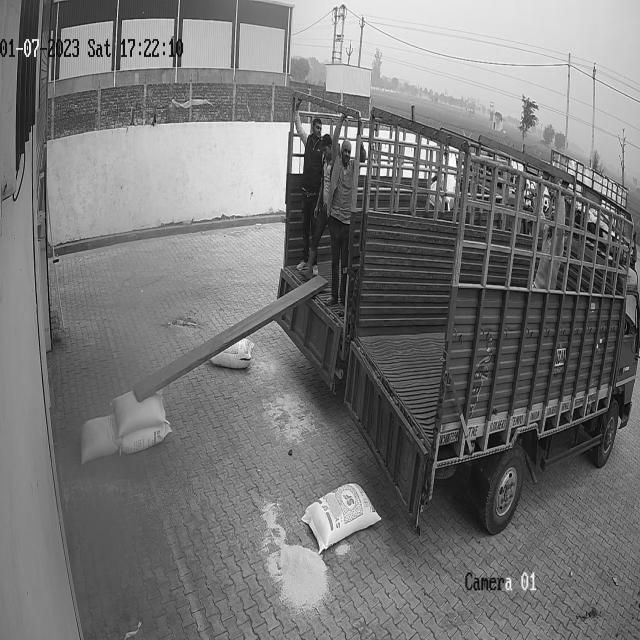sack: (302, 483, 381, 551), (110, 391, 165, 436), (78, 414, 119, 462), (120, 422, 171, 454), (210, 338, 254, 371)
